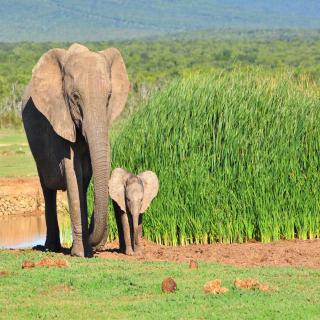Elephant: (19, 42, 130, 262), (108, 168, 160, 260)
